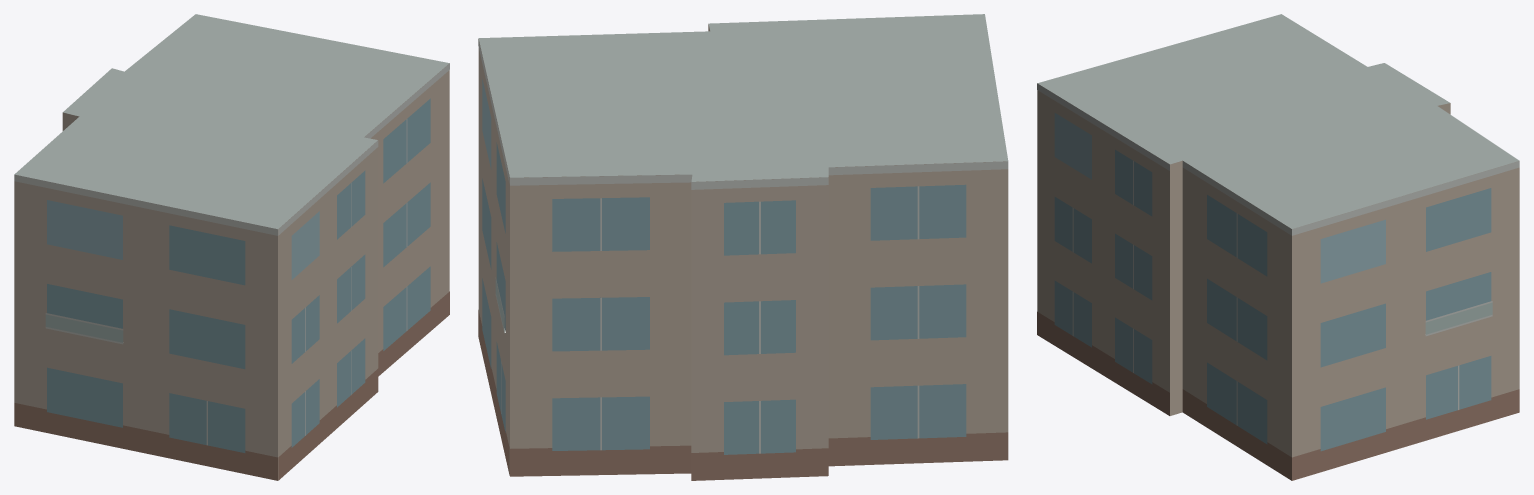
The model's file is survey-upis-32719363.glb.
3 renders of one model, left to right at view 1: azimuth 30°, elevation 25°; view 2: azimuth 150°, elevation 25°; view 3: azimuth 270°, elevation 25°, orthographic. The views are drawn at different scales.
Parts seen in each view (by area): view 1: survey-upis-32719363.tmp; view 2: survey-upis-32719363.tmp; view 3: survey-upis-32719363.tmp.
Part boxes in pixels (x1,y1,x2,y2): survey-upis-32719363.tmp: [14, 14, 449, 480]; survey-upis-32719363.tmp: [478, 14, 1008, 480]; survey-upis-32719363.tmp: [1037, 14, 1519, 480].
Size of the model in its own units: 16.78 by 9.15 by 15.9.
